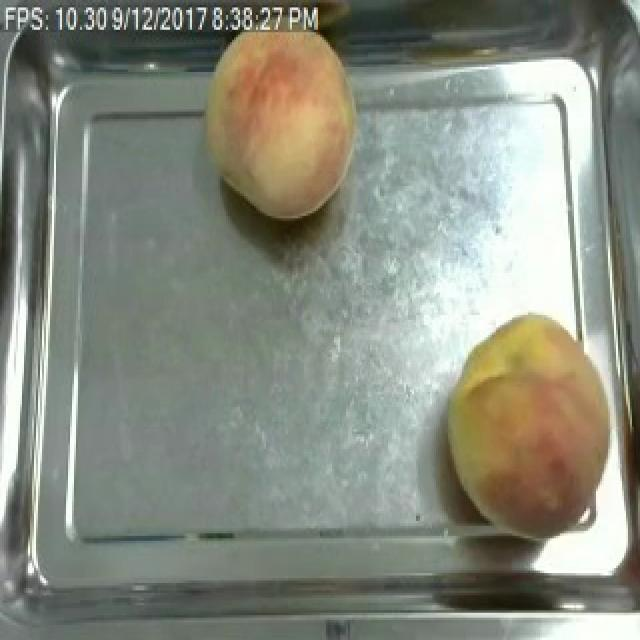Fruit: (436, 305, 638, 548), (196, 10, 368, 226)
